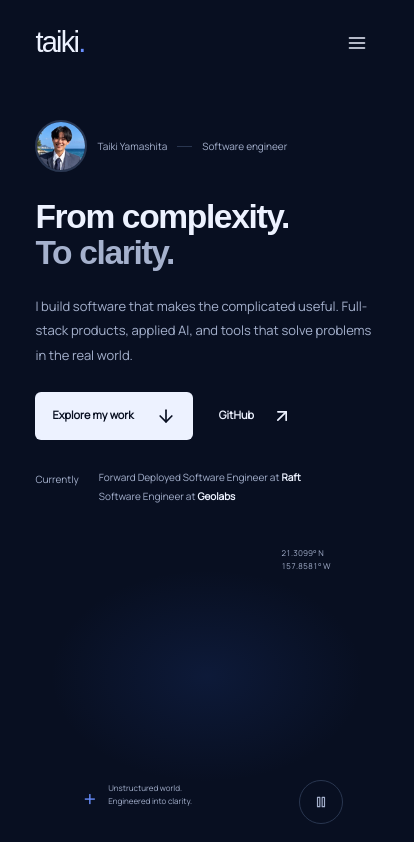
Test: mobile navigation opens, closes after selection, and supports Escape
Click the button named "Open navigation". click: (357, 42)
box: [335,20,379,64]
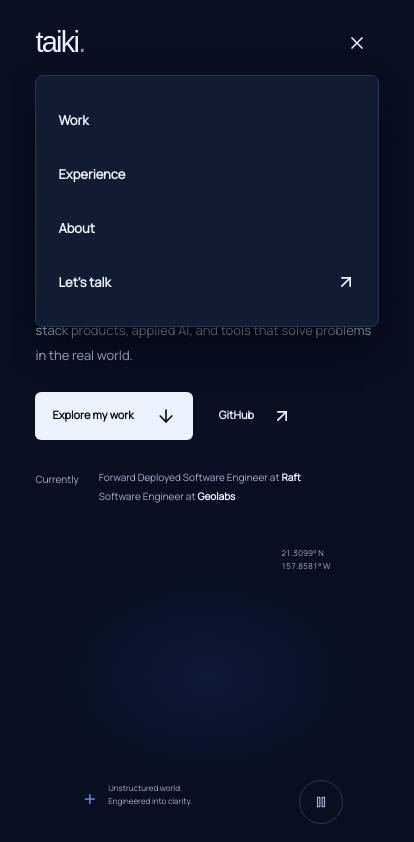
Expected: the button named "Open navigation" is expanded, [335,20,379,64]
Click the link "Work". click: (74, 120)
box: [58,111,89,129]
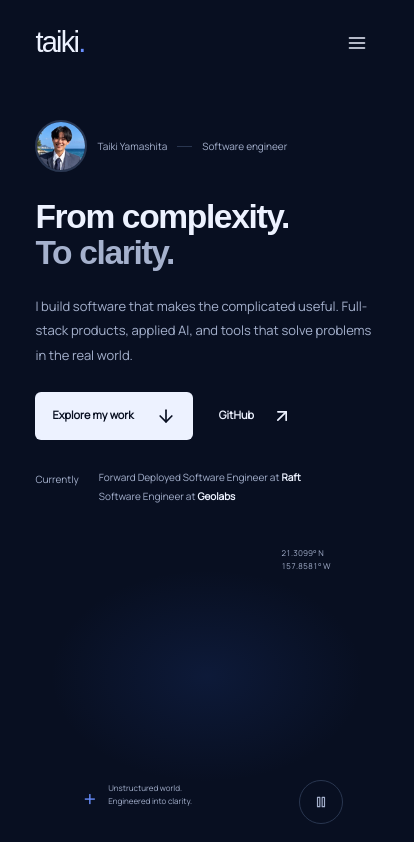
Expected: the button named "Open navigation" is collapsed
Click the button named "Open navigation". click: (357, 42)
box: [335,20,379,64]
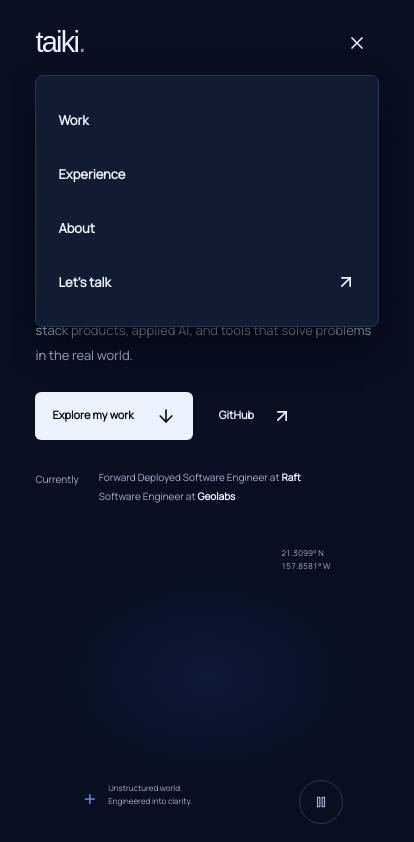
Press Escape
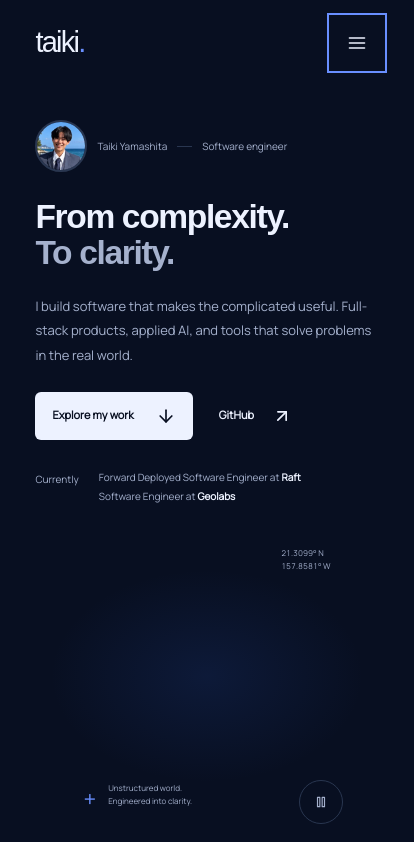
Expected: the button named "Open navigation" is collapsed, [335,20,379,64]
